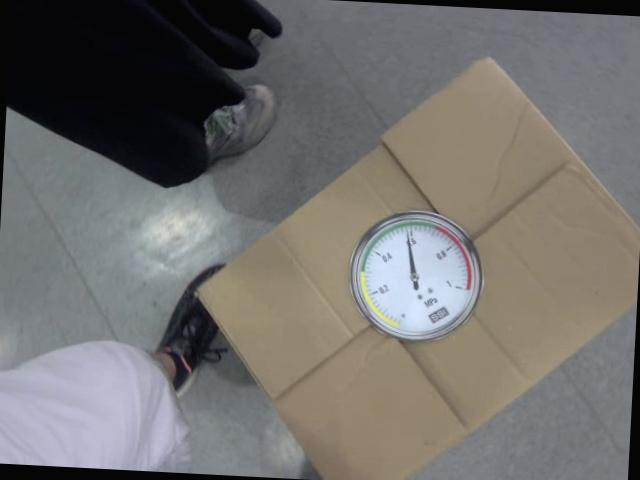Dashboard: (346, 205, 488, 345)
ssi: (425, 308, 450, 324)
